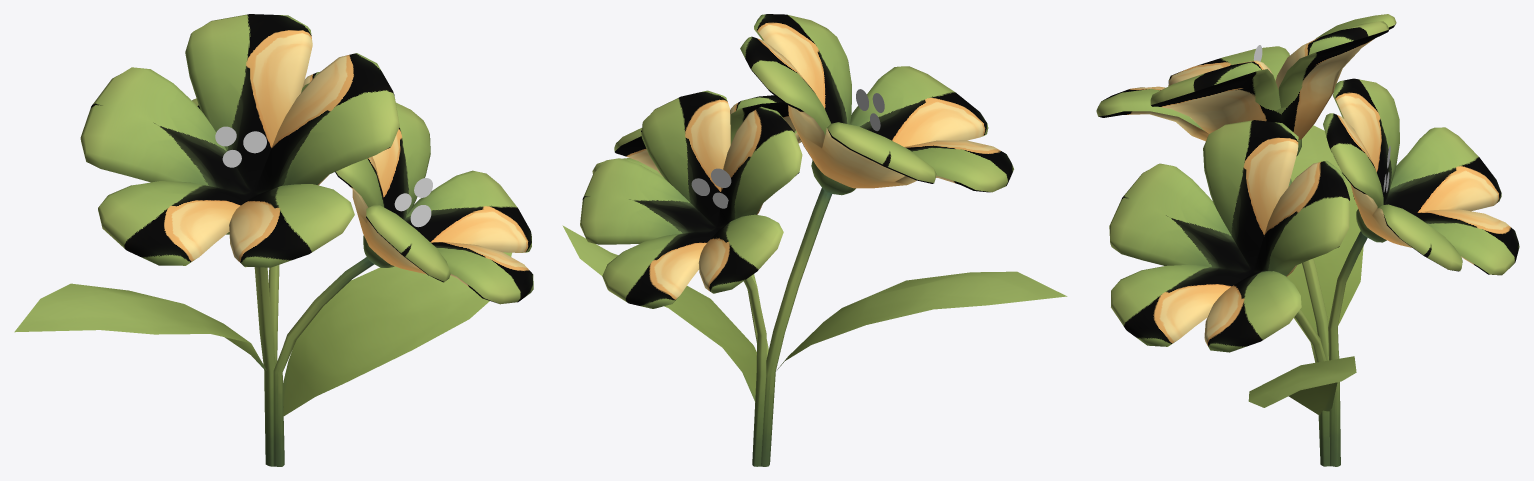
The model's file is Flower_Yellow01.FBX.
3 renders of one model, left to right at view 1: azimuth 30°, elevation 25°; view 2: azimuth 150°, elevation 25°; view 3: azimuth 270°, elevation 25°, orthographic. The views are drawn at different scales.
Parts seen in each view (by area): view 1: Box019, Group001; view 2: Box019, Group001; view 3: Box019, Group001.
Boxes of the visible parts, x1,y1,x2,y2 form: Box019: [80, 14, 533, 466]; Group001: [14, 126, 511, 416]; Box019: [580, 14, 1013, 466]; Group001: [562, 89, 1067, 401]; Box019: [1096, 14, 1519, 466]; Group001: [1248, 45, 1390, 415].
Bounding box in the file's own units: 54.56 × 44.58 × 39.45.
